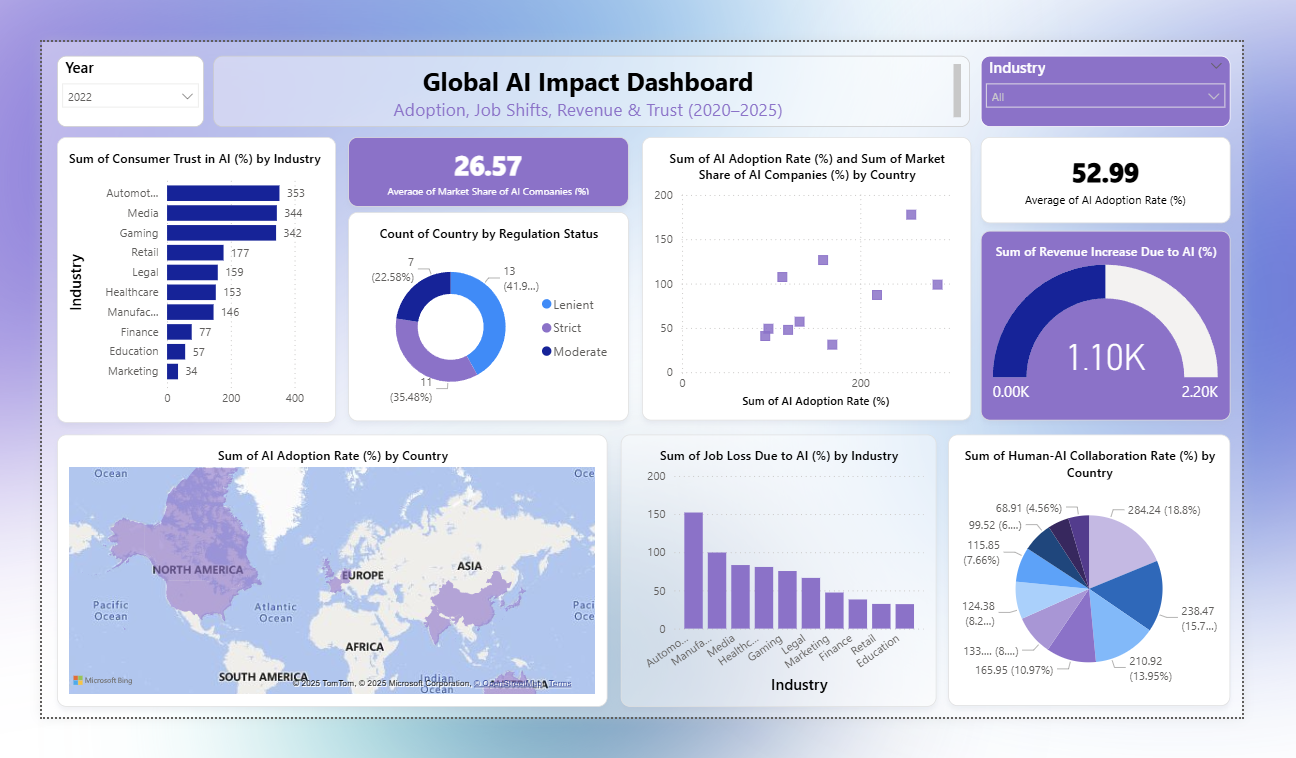

The dashboard page shown, as its layout file describes it:
{"tool":"powerbi","page":{"name":"Page 1","canvas":[1280,720],"ordinal":0},"visuals":[{"type":"filledMap","fields":{"Category":["Sheet1.Country"]},"box":[16.6,418.4,587.2,290],"z":0},{"type":"columnChart","fields":{"Category":["Sheet1.Industry"],"Y":["Sum(Sheet1.Job Loss Due to AI (%))"]},"box":[616.9,418.4,336.4,290],"z":1000},{"type":"pieChart","fields":{"Category":["Sheet1.Country"],"Y":["Sum(Sheet1.Human-AI Collaboration Rate (%))"]},"box":[966,418.2,300.8,289.8],"z":2000},{"type":"clusteredBarChart","fields":{"Category":["Sheet1.Industry"],"Y":["Sum(Sheet1.Consumer Trust in AI (%))"]},"box":[16.3,101.2,297.7,304.7],"z":3000},{"type":"donutChart","fields":{"Category":["Sheet1.Regulation Status"],"Y":["CountNonNull(Sheet1.Country)"]},"box":[326.7,181.4,298.8,223.3],"z":4000},{"type":"scatterChart","fields":{"Category":["Sheet1.Country"],"X":["Sum(Sheet1.AI Adoption Rate (%))"],"Y":["Sum(Sheet1.Market Share of AI Companies (%))"]},"box":[639.5,101.2,351.2,302.3],"z":5000},{"type":"gauge","fields":{"Y":["Sum(Sheet1.Revenue Increase Due to AI (%))"]},"box":[1001.2,201.2,266.3,202.3],"z":6000},{"type":"card","fields":{"Values":["Avg(Sheet1.AI Adoption Rate (%))"]},"box":[1001.2,101.2,266.3,91.9],"z":7000},{"type":"card","fields":{"Values":["Avg(Sheet1.Market Share of AI Companies (%))"]},"box":[326.7,101.2,298.8,74.4],"z":8000},{"type":"slicer","fields":{"Values":["Sheet1.Industry"]},"box":[1000.9,14.3,266.3,76.1],"z":9000},{"type":"textbox","box":[183.1,14.3,807.1,76.1],"z":10000},{"type":"slicer","fields":{"Values":["Sheet1.Year"]},"box":[16.6,14.3,156.9,76.1],"z":11000}]}

Visuals, with their boxes on the page's 1280x720 design canvas (x1, y1, x2, y2). These are canvas units, not pixel positions in the 1296x758 screenshot, which may show the page scaled, cropped or inside an application window:
filledMap - Sheet1.Country: <box>17,418,604,708</box>
columnChart - Sheet1.Industry x Sum(Sheet1.Job Loss Due to AI (%)): <box>617,418,953,708</box>
pieChart - Sheet1.Country x Sum(Sheet1.Human-AI Collaboration Rate (%)): <box>966,418,1267,708</box>
clusteredBarChart - Sheet1.Industry x Sum(Sheet1.Consumer Trust in AI (%)): <box>16,101,314,406</box>
donutChart - Sheet1.Regulation Status x CountNonNull(Sheet1.Country): <box>327,181,626,405</box>
scatterChart - Sheet1.Country x Sum(Sheet1.AI Adoption Rate (%)): <box>640,101,991,404</box>
gauge - Sum(Sheet1.Revenue Increase Due to AI (%)): <box>1001,201,1268,404</box>
card - Avg(Sheet1.AI Adoption Rate (%)): <box>1001,101,1268,193</box>
card - Avg(Sheet1.Market Share of AI Companies (%)): <box>327,101,626,176</box>
slicer - Sheet1.Industry: <box>1001,14,1267,90</box>
textbox: <box>183,14,990,90</box>
slicer - Sheet1.Year: <box>17,14,174,90</box>
